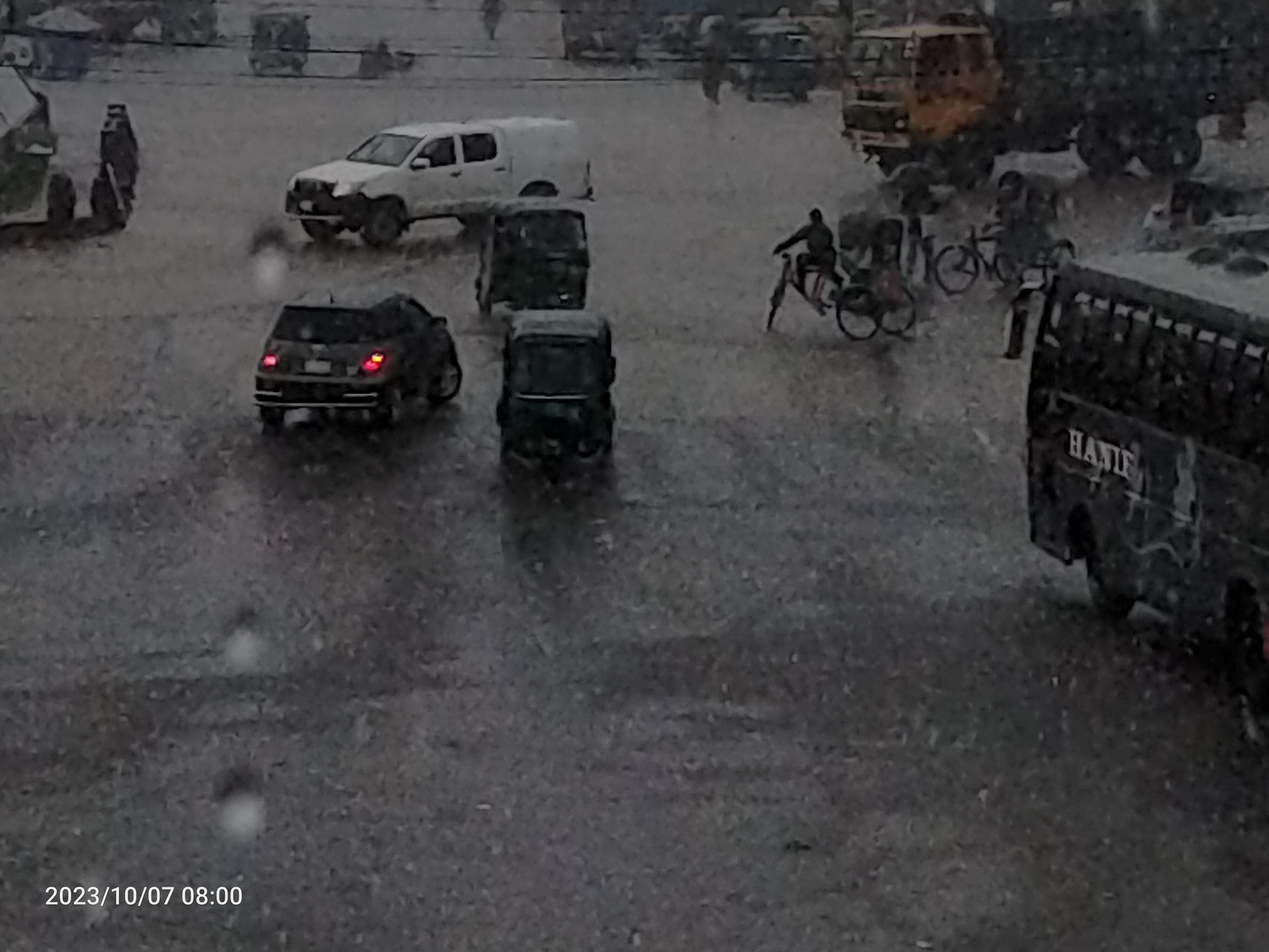Bus: (1011, 239, 1269, 677)
Car: (246, 104, 624, 254), (227, 275, 483, 453), (733, 192, 937, 361), (935, 162, 1083, 313)
Truck: (832, 6, 1269, 196)
